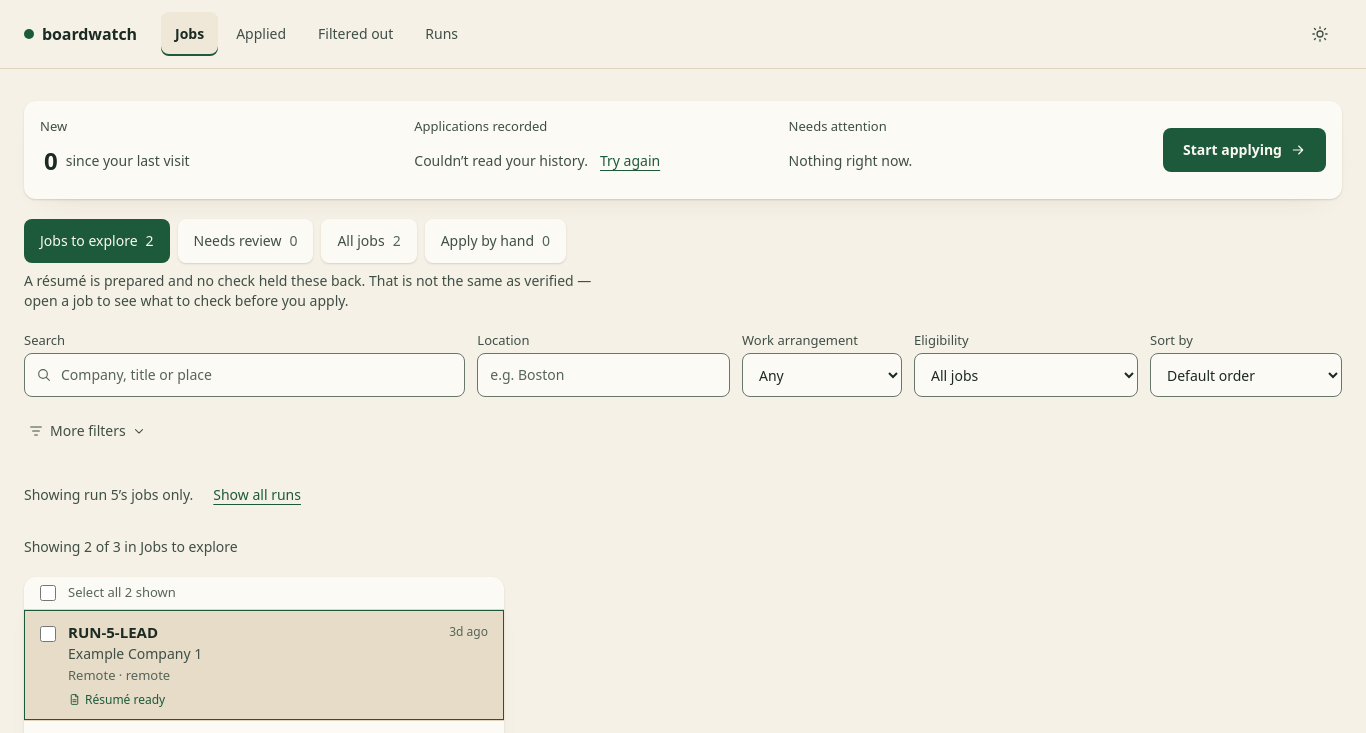
Test: working state across a tab switch › carries the run filter and the open lead back from the Runs tab
Click the button "Runs". click: (442,34)
box: top-left (411, 12), bottom-right (472, 56)
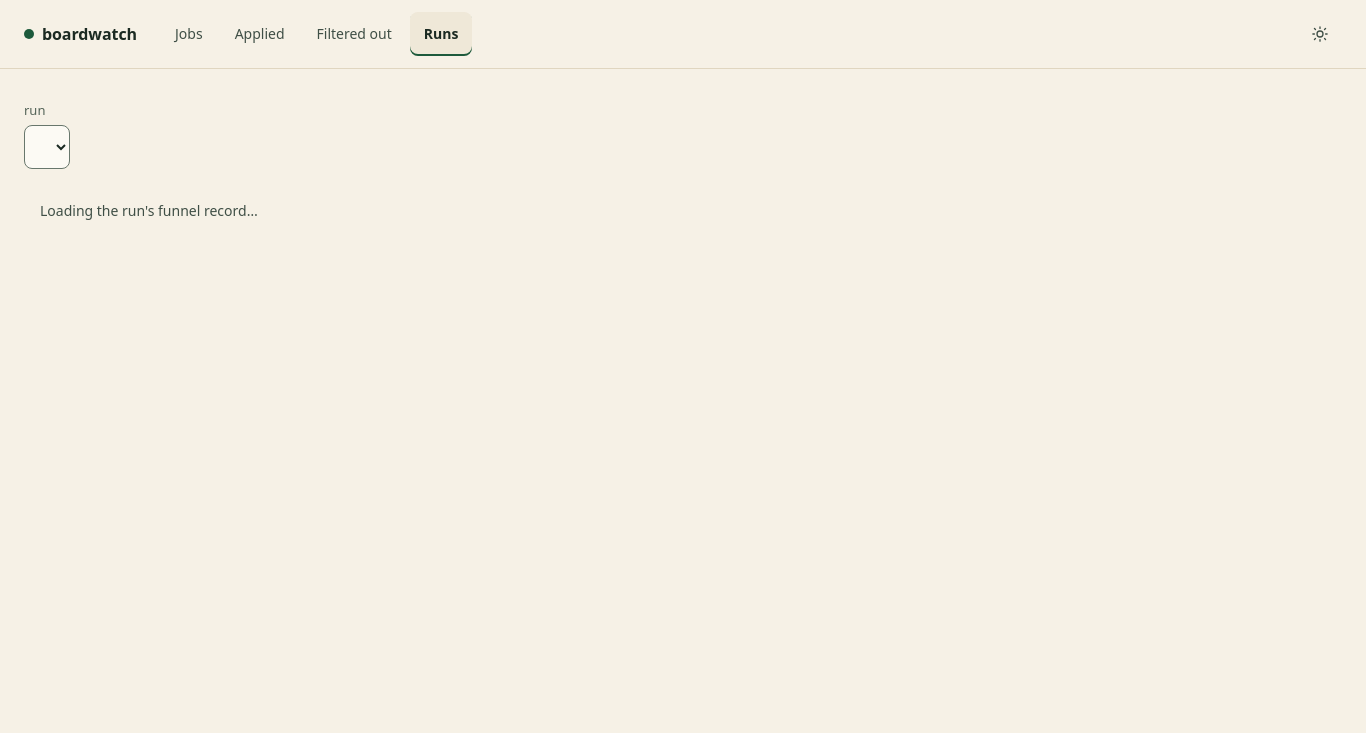
Click the button "Jobs". click: (189,34)
box: top-left (161, 12), bottom-right (217, 56)
(page scrolled)
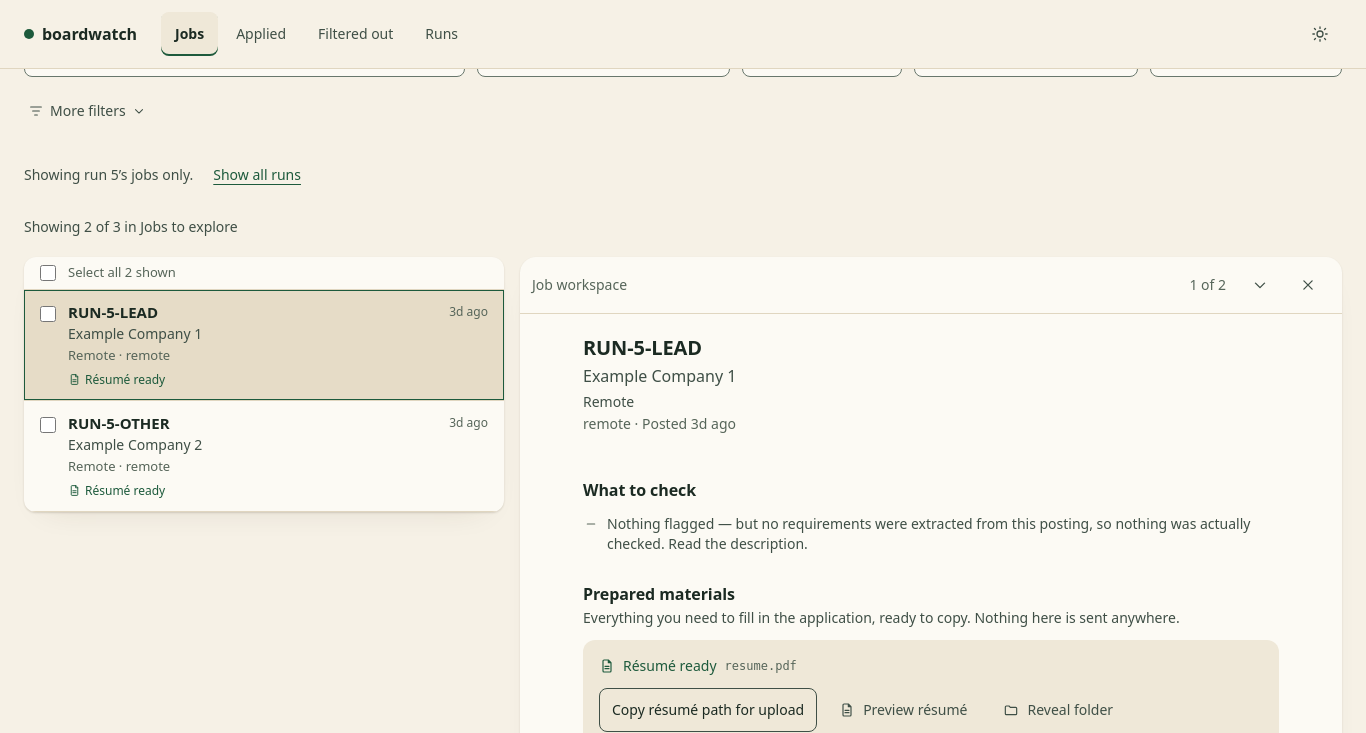
Check: the table named "Jobs to explore" is shown, box top-left (24, 257), bottom-right (504, 512)
